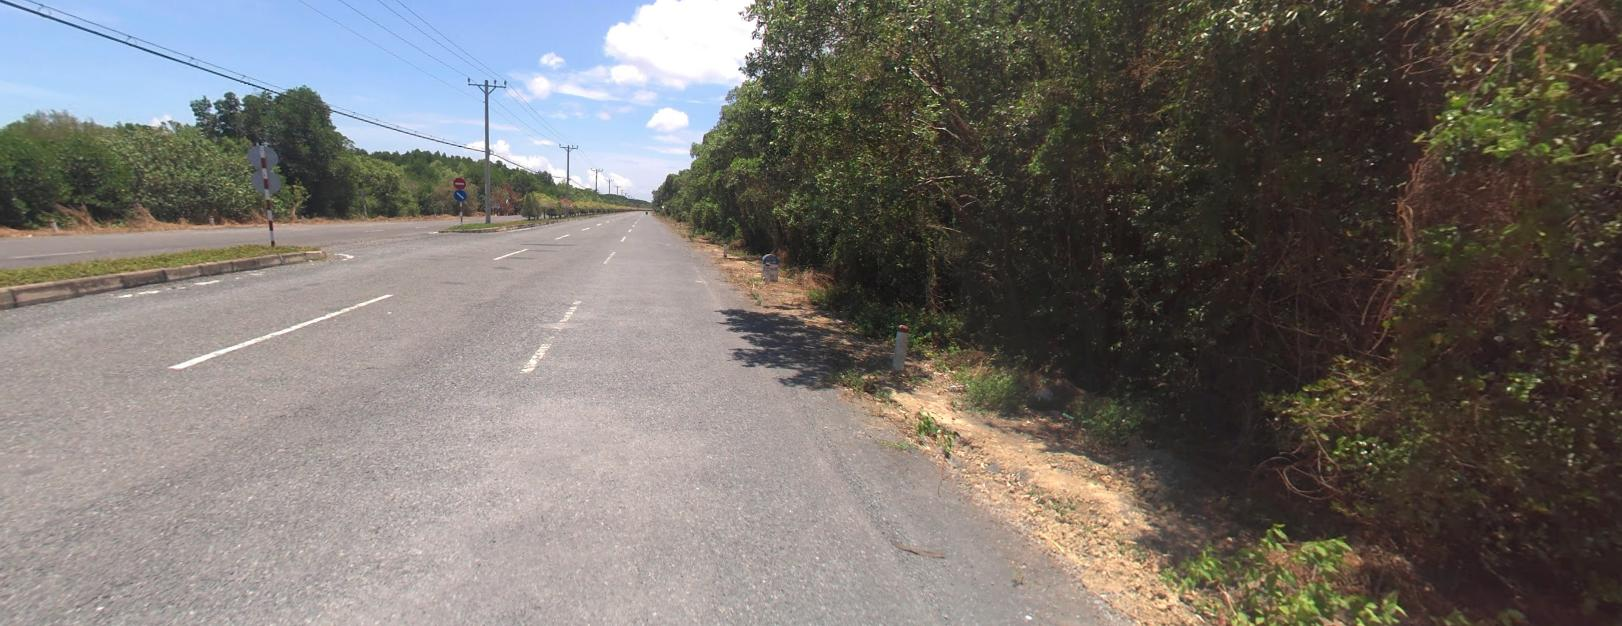Cam nguoc chieu: (453, 176, 465, 187)
Hieu lenh: (453, 188, 465, 199)
